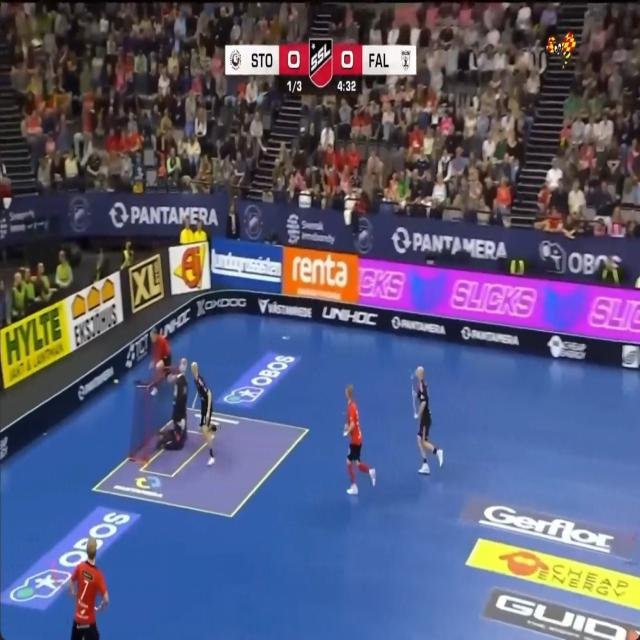Balls: (113, 378, 119, 382)
player: (69, 537, 108, 639), (344, 385, 375, 493), (415, 367, 443, 474), (191, 361, 218, 465), (159, 358, 188, 450), (149, 328, 171, 374)
stick: (410, 374, 417, 418), (191, 390, 197, 409)
